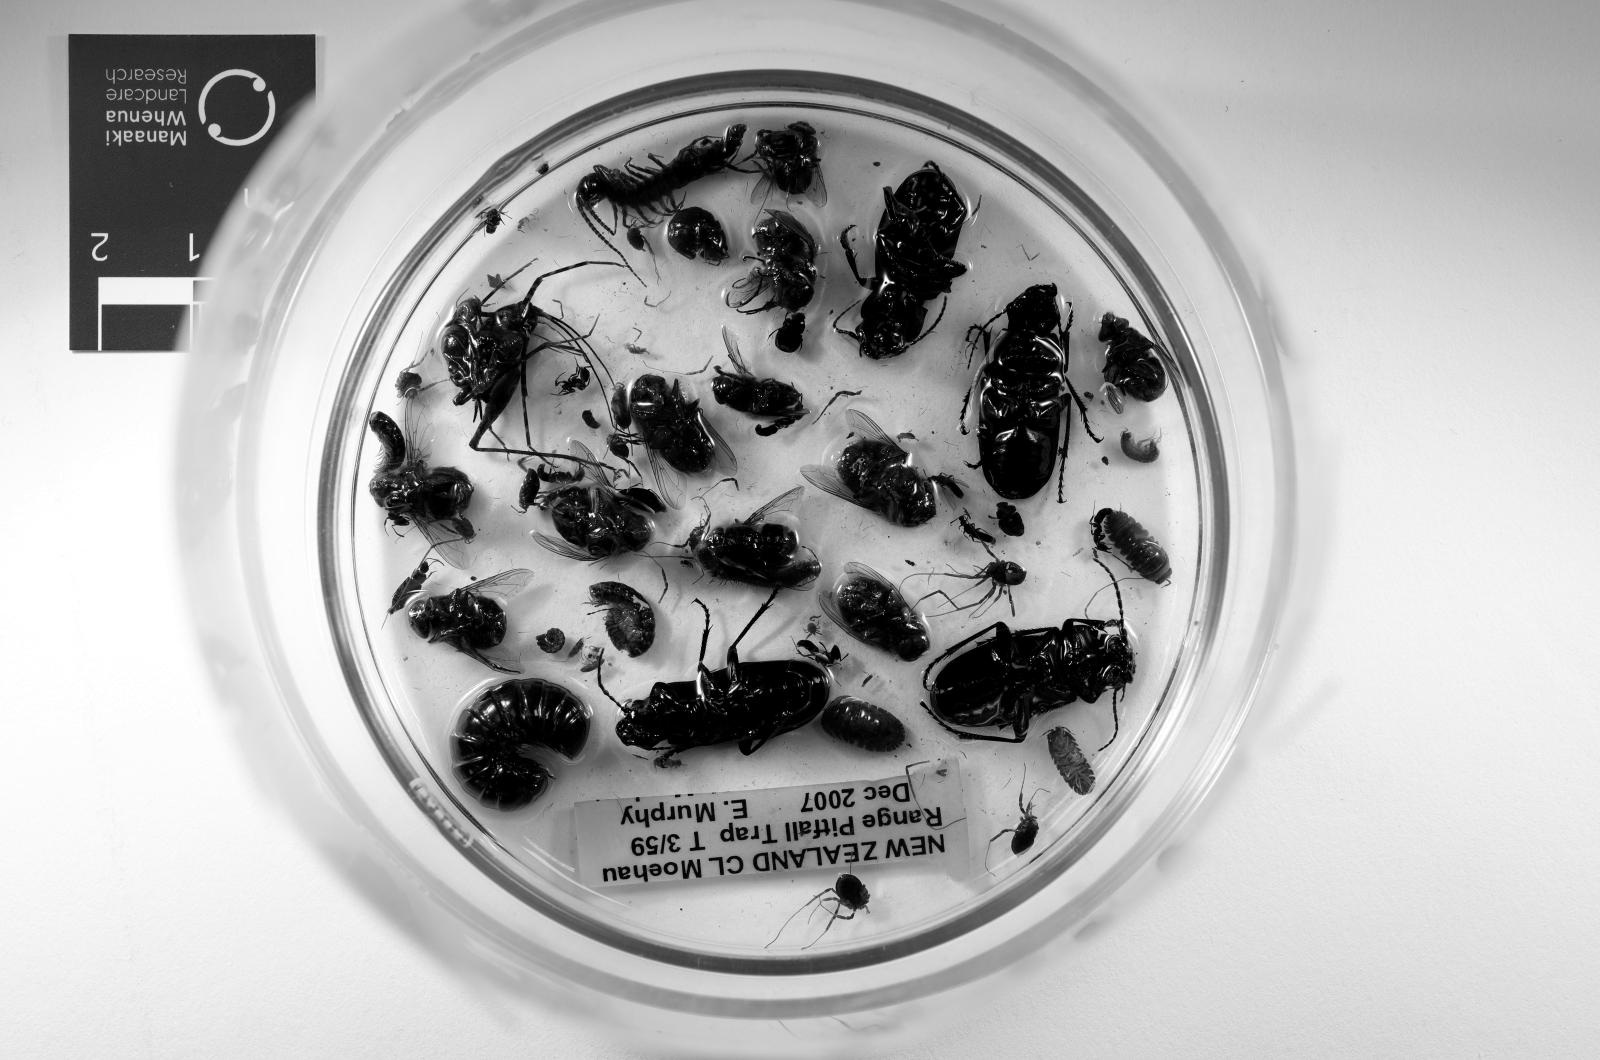acari: (807, 621, 822, 636)
amphipoda: (1122, 432, 1159, 463)
carabidae: (616, 600, 831, 767), (922, 596, 1134, 742), (963, 283, 1100, 500), (835, 161, 969, 360)
chilopoda: (575, 124, 747, 237)
coleoptera: (388, 556, 432, 615), (926, 472, 972, 512), (769, 310, 807, 354), (957, 512, 997, 547), (997, 503, 1025, 537), (896, 432, 915, 441)
diptera: (369, 397, 475, 568), (799, 409, 938, 528), (531, 441, 653, 562), (628, 376, 738, 509), (407, 568, 535, 674), (818, 562, 931, 661), (725, 211, 818, 314), (713, 327, 807, 419), (710, 487, 803, 575), (750, 121, 828, 208), (1100, 314, 1166, 413)
formicidae: (797, 640, 847, 671), (556, 363, 590, 394), (1090, 509, 1113, 552), (757, 416, 797, 438)
isopoda: (451, 680, 590, 810), (1103, 512, 1172, 584), (822, 699, 906, 751), (1047, 726, 1094, 795), (369, 413, 407, 476)
opiliones: (925, 552, 1025, 615), (780, 873, 869, 932), (986, 770, 1039, 854), (607, 432, 641, 478), (397, 360, 434, 397), (626, 227, 656, 264), (609, 382, 631, 428), (519, 468, 540, 512)
orthoptera: (468, 264, 574, 460)
